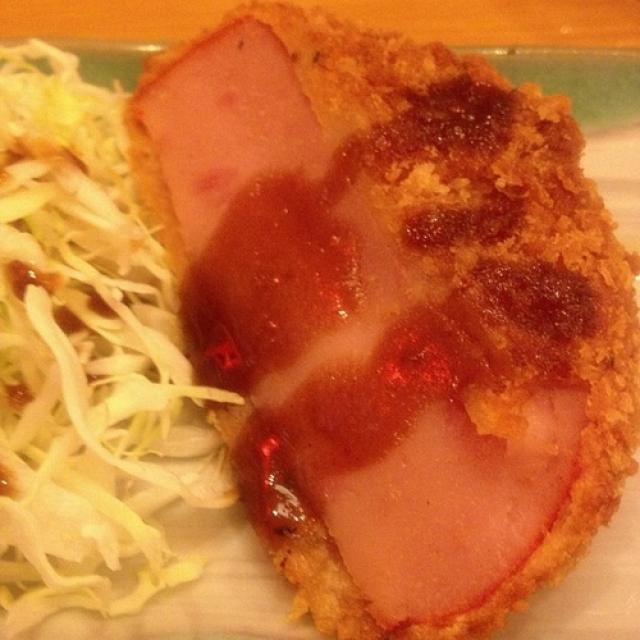炸货点心: (8, 12, 630, 634)
